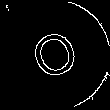O_SE: (25, 23, 85, 87)
